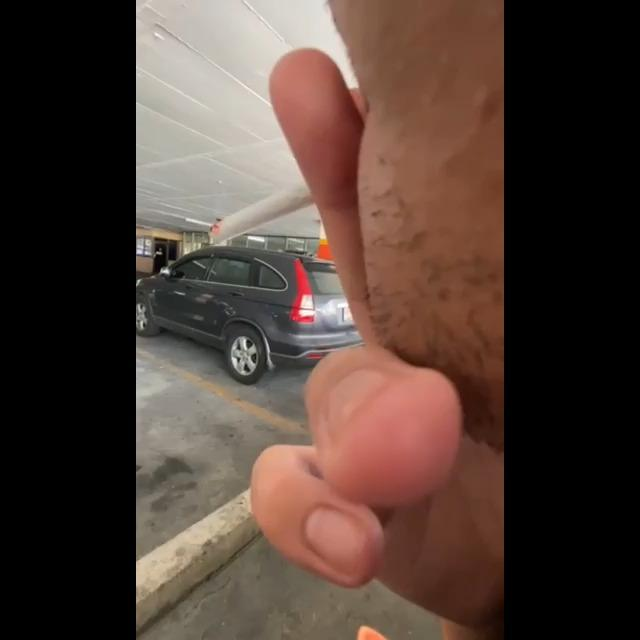rokok: (196, 182, 336, 248)
